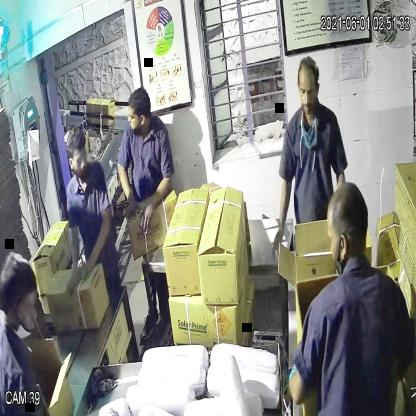goggles: (60, 148, 93, 174)
no_goggles: (294, 77, 323, 107)
